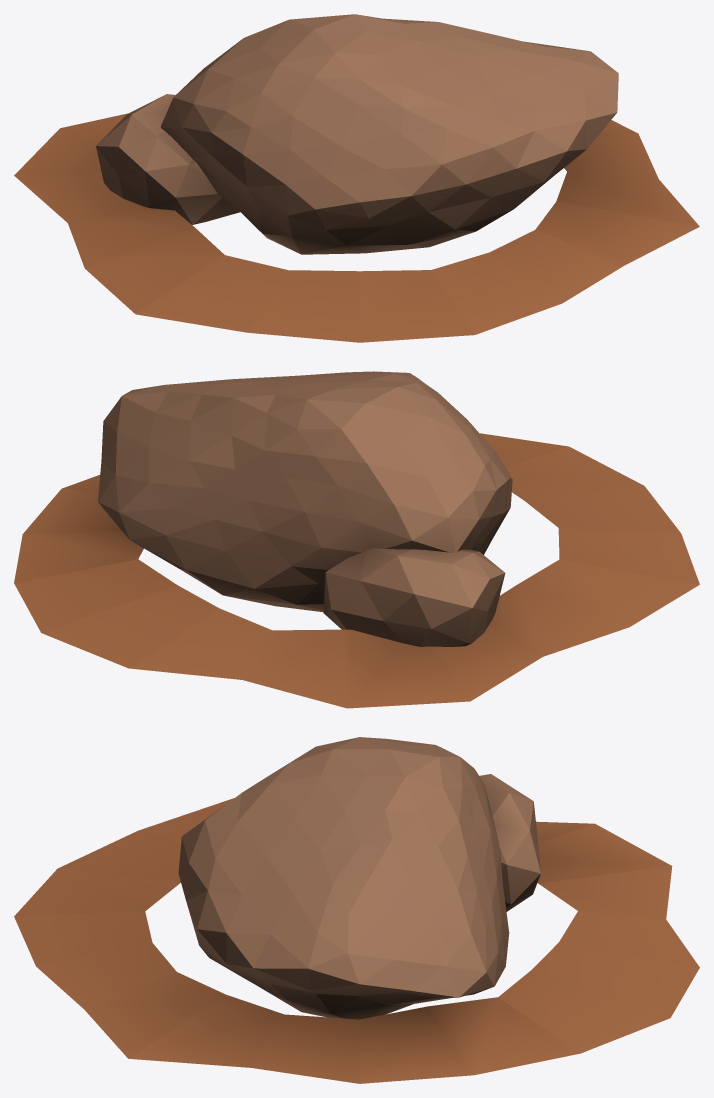
File: boulder_b.glb
The picture shows the model from 3 angles, top to bottom: view 1: azimuth 30°, elevation 25°; view 2: azimuth 150°, elevation 25°; view 3: azimuth 270°, elevation 25°; orthographic projection. The views are drawn at different scales.
Parts seen in each view (by area): view 1: Rock; view 2: Rock; view 3: Rock.
Part boxes in pixels (x1,y1,x2,y2): Rock: (14, 14, 699, 342); Rock: (14, 371, 699, 708); Rock: (14, 737, 699, 1083).
Bounding box in the file's own units: 2.88 × 0.9065 × 2.92.
